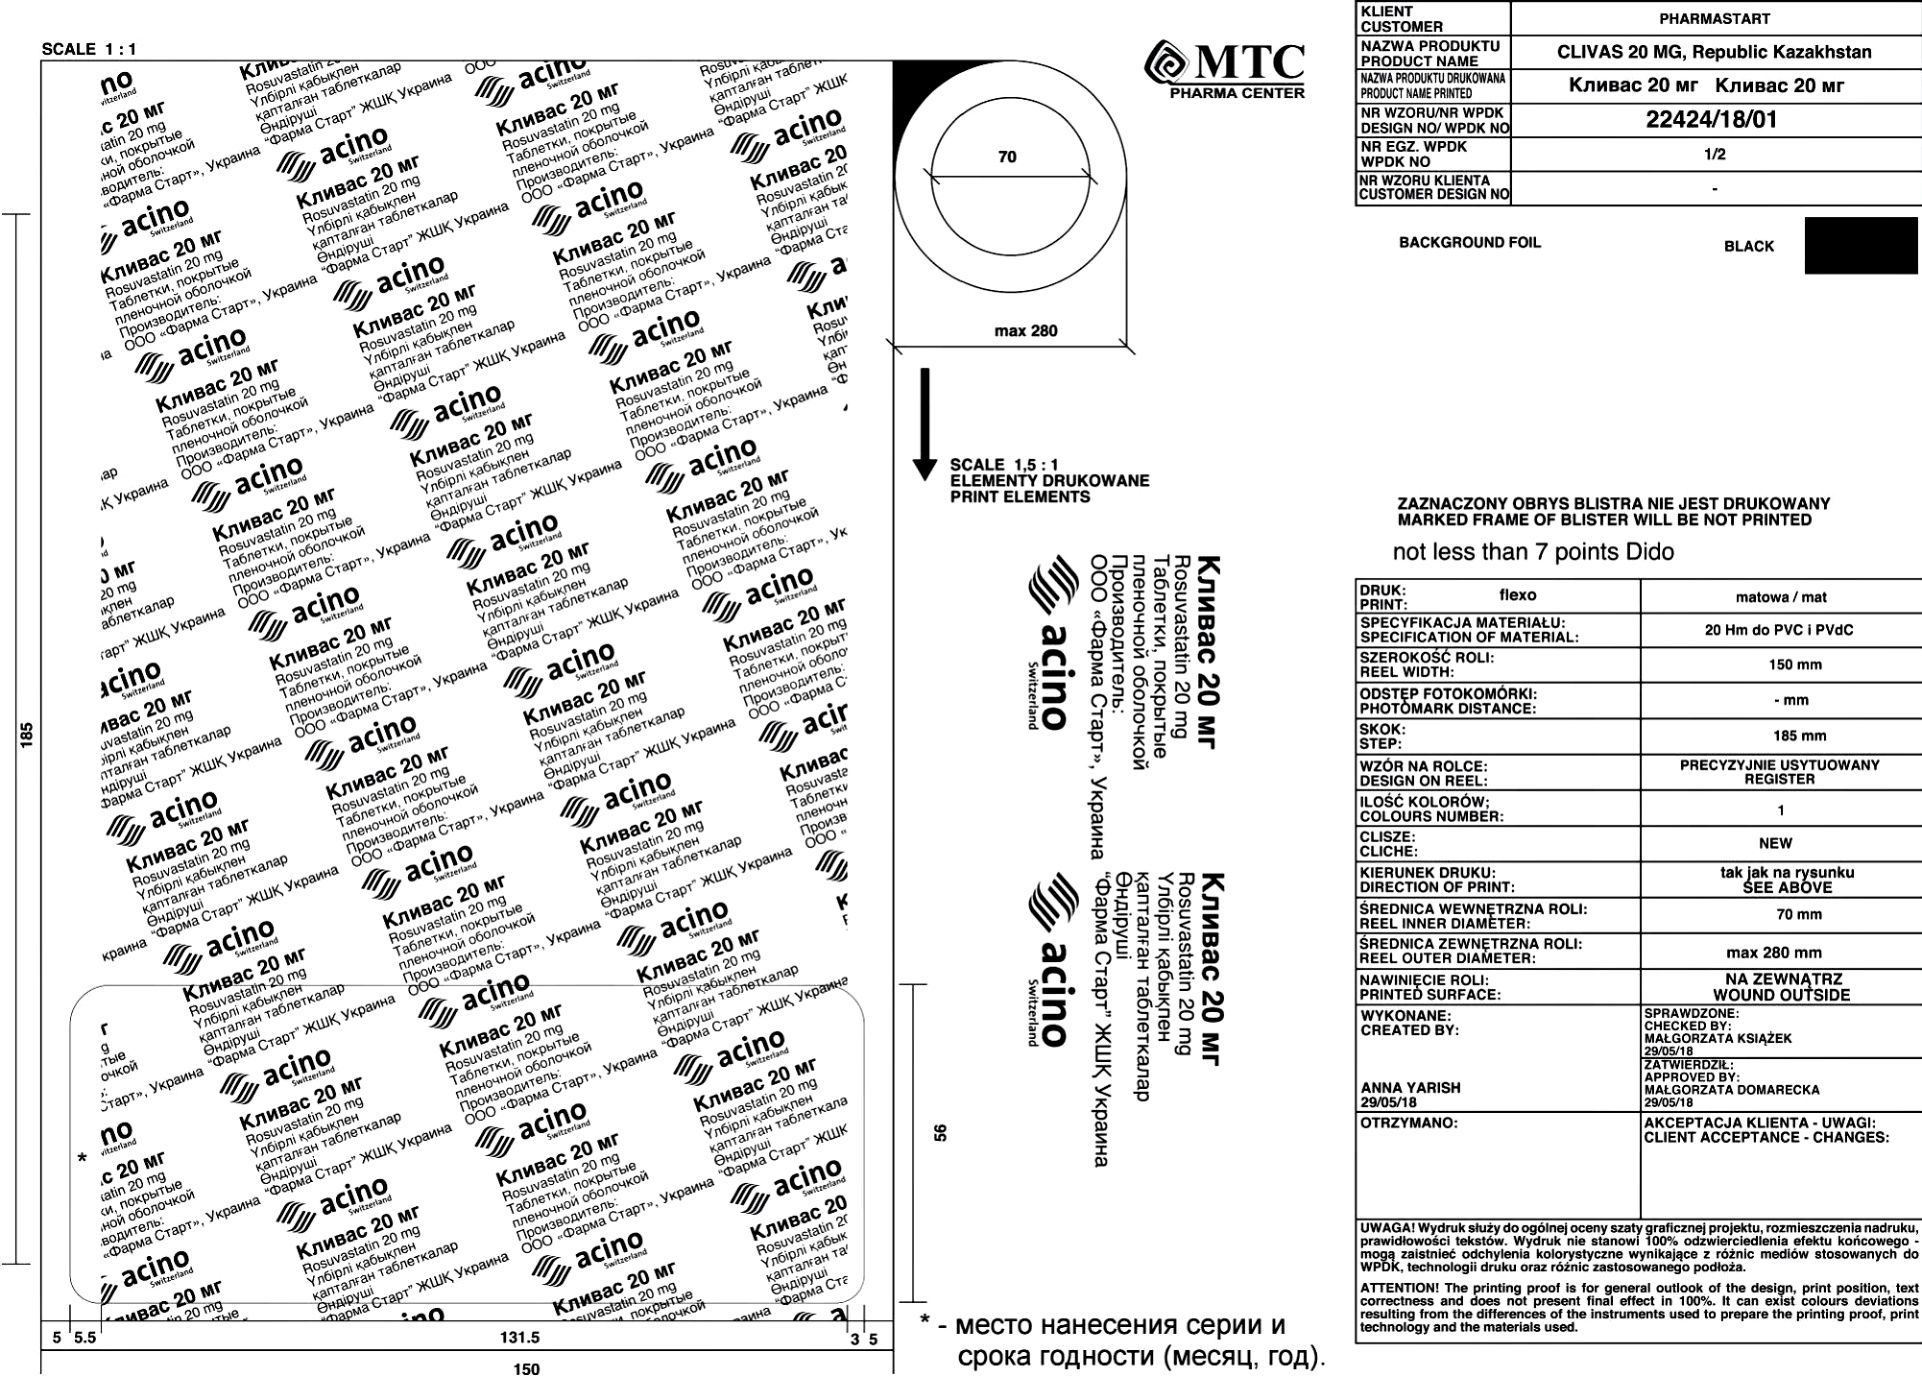full_lined: (1353, 1, 1922, 209)
merged_cells: (1351, 577, 1921, 1346)
